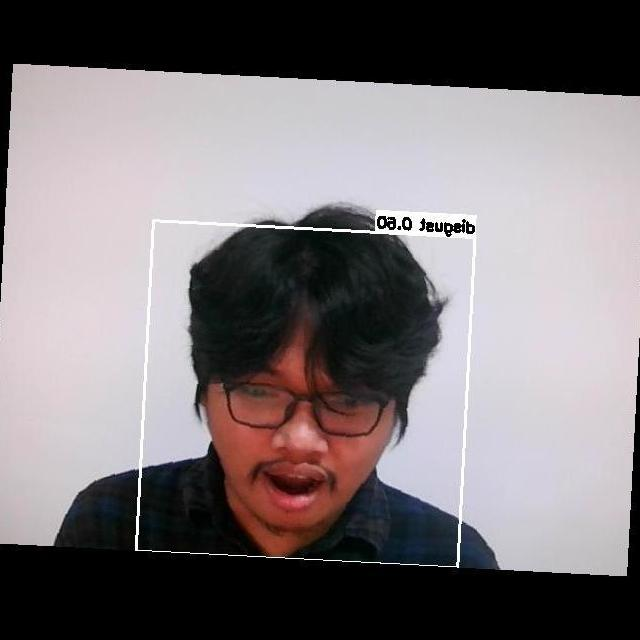Surprised: (202, 338, 390, 530)
